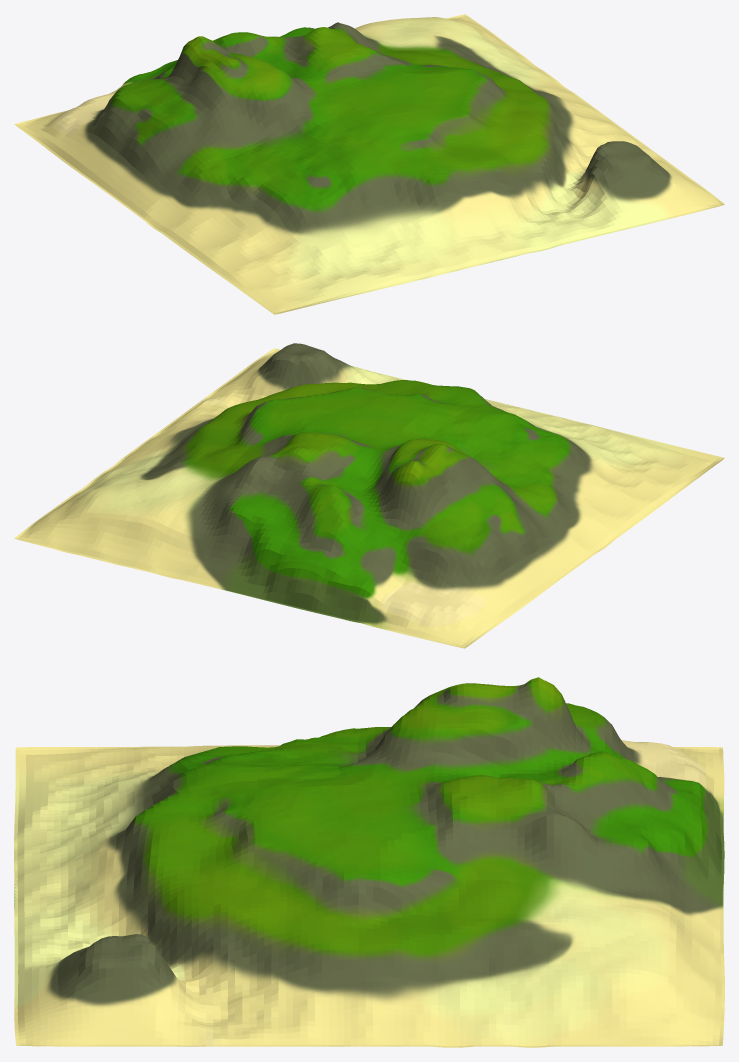
The model's file is world.obj.
3 views of the same model, one above another, from view 1: azimuth 30°, elevation 25°; view 2: azimuth 150°, elevation 25°; view 3: azimuth 270°, elevation 25° (orthographic). The views are drawn at different scales.
Visible parts, largest first — view 1: Grid_Grid.001; view 2: Grid_Grid.001; view 3: Grid_Grid.001.
Boxes of the visible parts, left/top/right/bottom form: Grid_Grid.001: left=14, top=14, right=724, bottom=314; Grid_Grid.001: left=14, top=343, right=724, bottom=648; Grid_Grid.001: left=14, top=677, right=724, bottom=1047.
Size of the model in its own units: 990 by 232 by 990.
